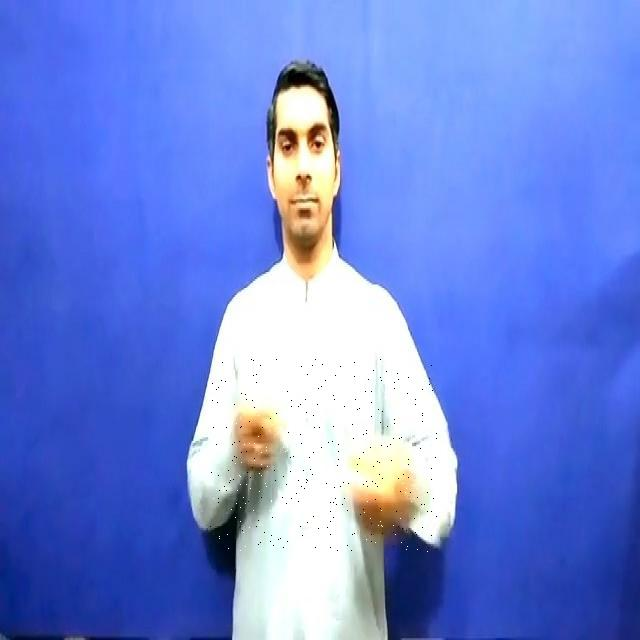manager: (210, 358, 438, 552)
